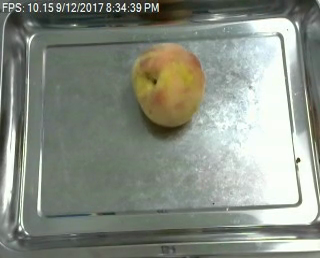Peach: (131, 42, 205, 126)
